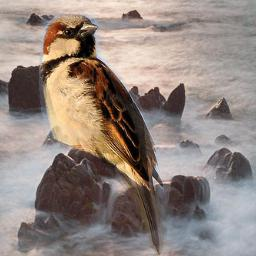Swallow: (38, 14, 164, 255)
